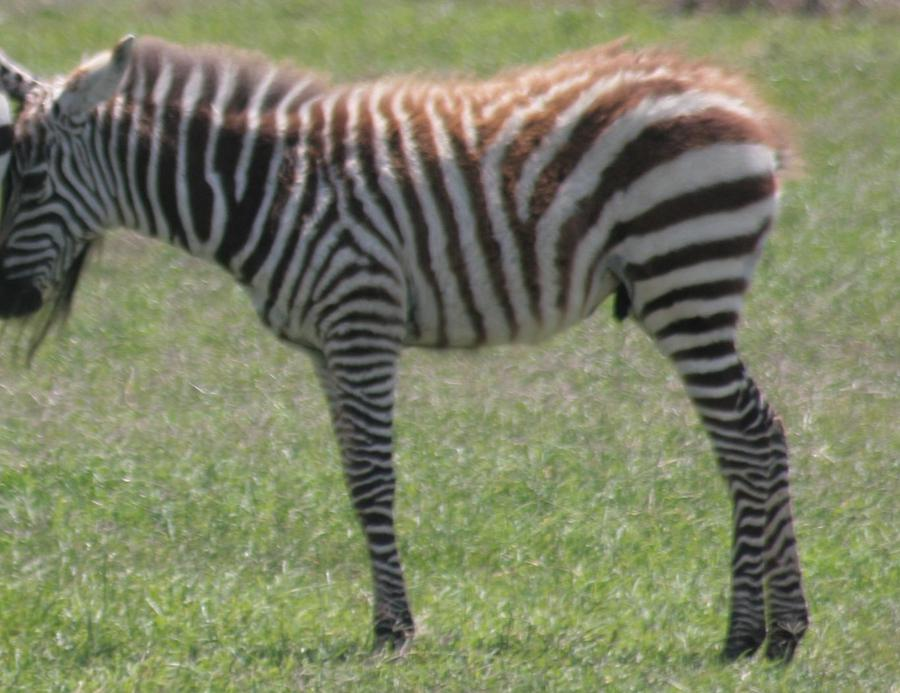zebra_plains: (216, 43, 804, 366)
